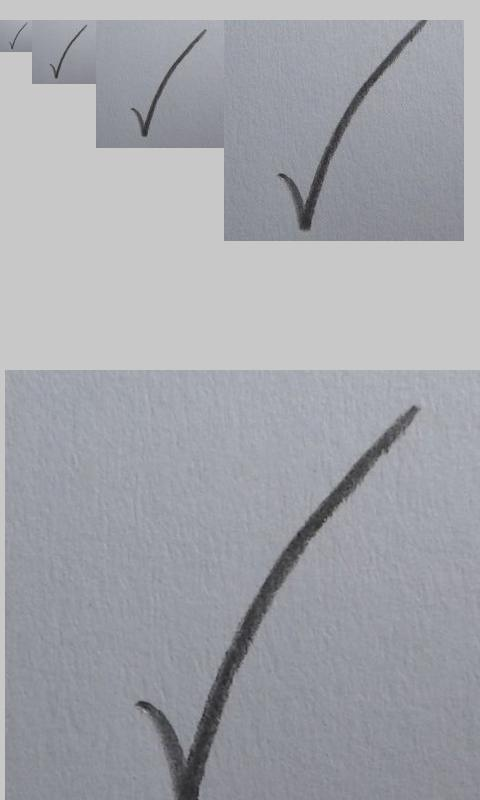check_box: (137, 405, 418, 800), (279, 23, 421, 232), (130, 29, 207, 138), (50, 25, 86, 79), (9, 23, 27, 49)
